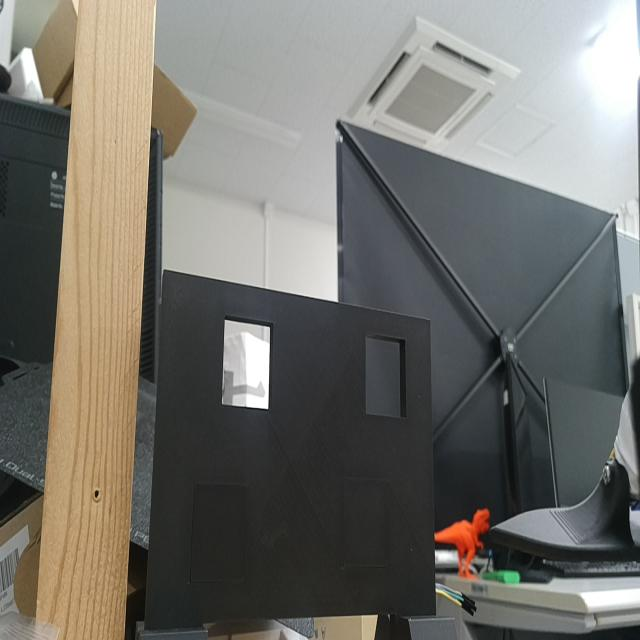Obstacle: (220, 317, 275, 409), (366, 332, 405, 417)
Wall: (151, 271, 436, 626)
